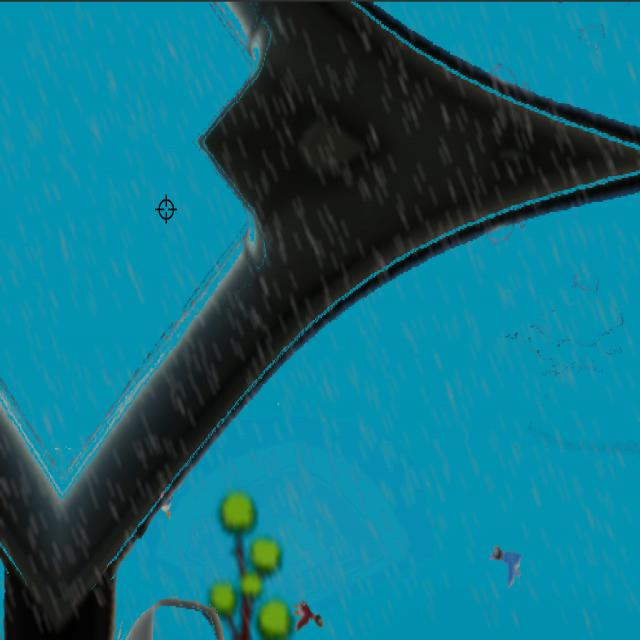duck: (485, 536, 529, 588), (292, 595, 326, 634), (156, 491, 177, 523)
